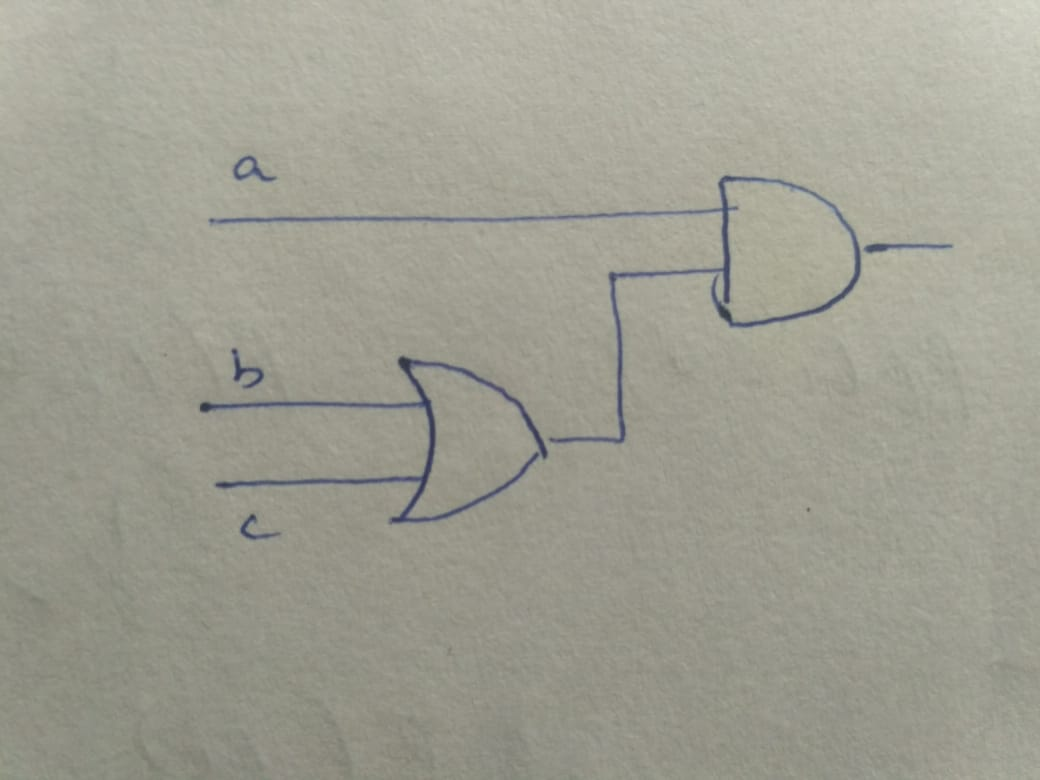and: (668, 147, 896, 357)
or: (350, 349, 579, 534)
